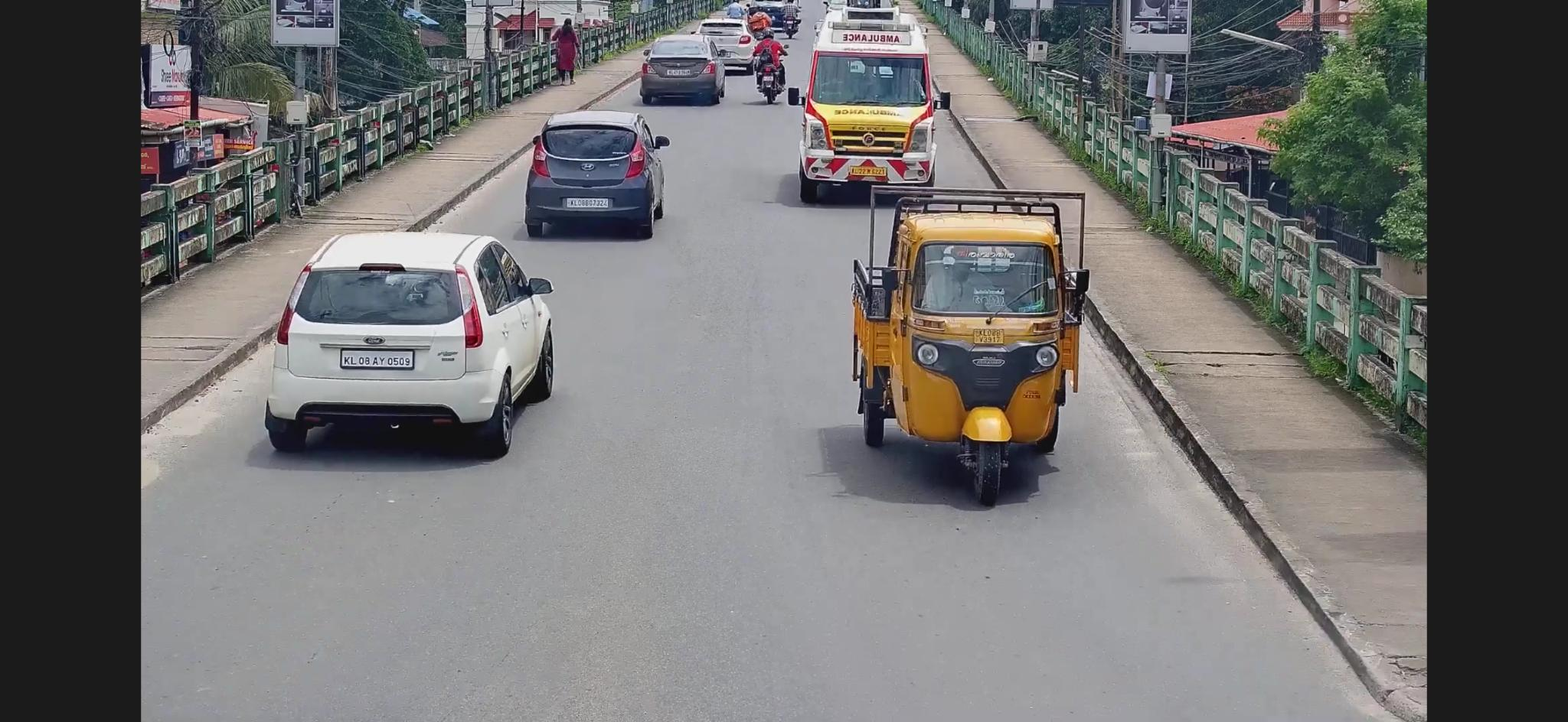ambulance: (793, 2, 929, 202)
